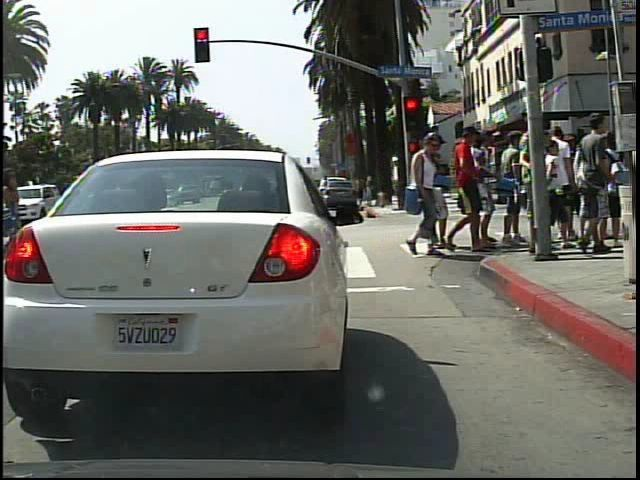person: (401, 129, 453, 264)
